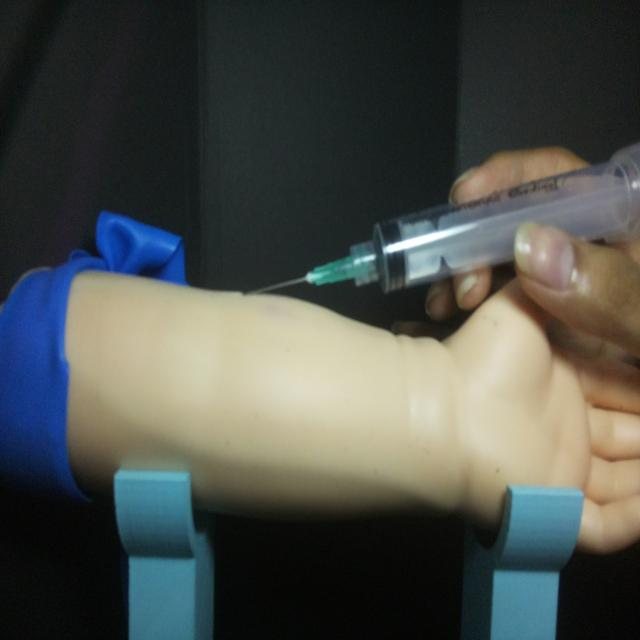18deg: (245, 140, 638, 302)
